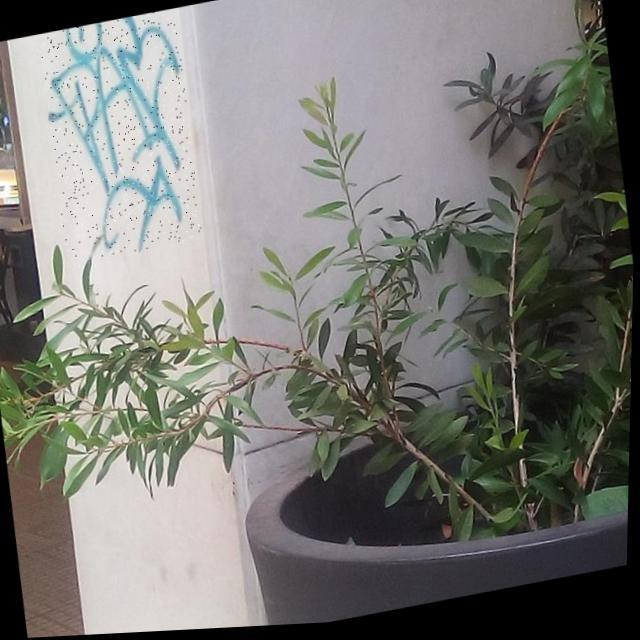-: (36, 8, 208, 266)
